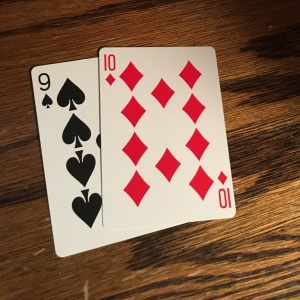card: (99, 45, 238, 221), (29, 58, 108, 255)
